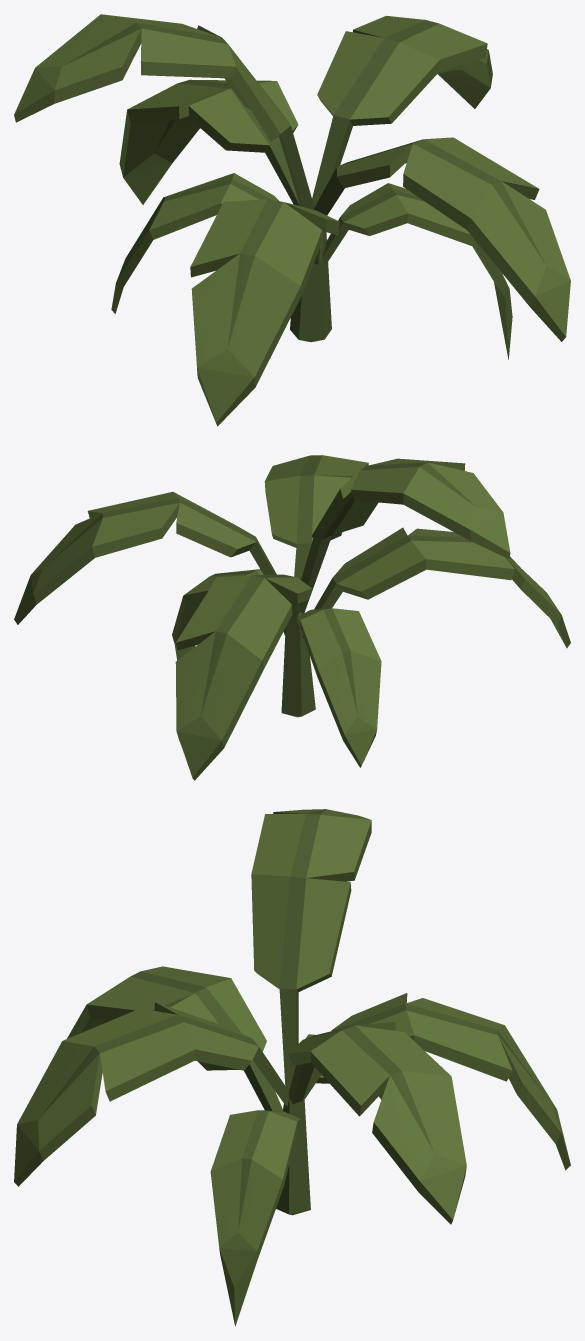
Rendered from SM_Prop_Plant_Fern_01.obj.
3 renders of one model, top to bottom at view 1: azimuth 30°, elevation 25°; view 2: azimuth 150°, elevation 25°; view 3: azimuth 270°, elevation 25°, orthographic. The views are drawn at different scales.
Parts seen in each view (by area): view 1: SM_Prop_Plant_Fern_01_0; view 2: SM_Prop_Plant_Fern_01_0; view 3: SM_Prop_Plant_Fern_01_0.
Boxes of the visible parts, box(x1,y1,x2,y2) form: SM_Prop_Plant_Fern_01_0: box(14, 14, 570, 426); SM_Prop_Plant_Fern_01_0: box(14, 455, 570, 780); SM_Prop_Plant_Fern_01_0: box(14, 809, 570, 1326).
Size of the model in its own units: 1.13 by 0.7931 by 1.11.
1 material, 1 textured.
